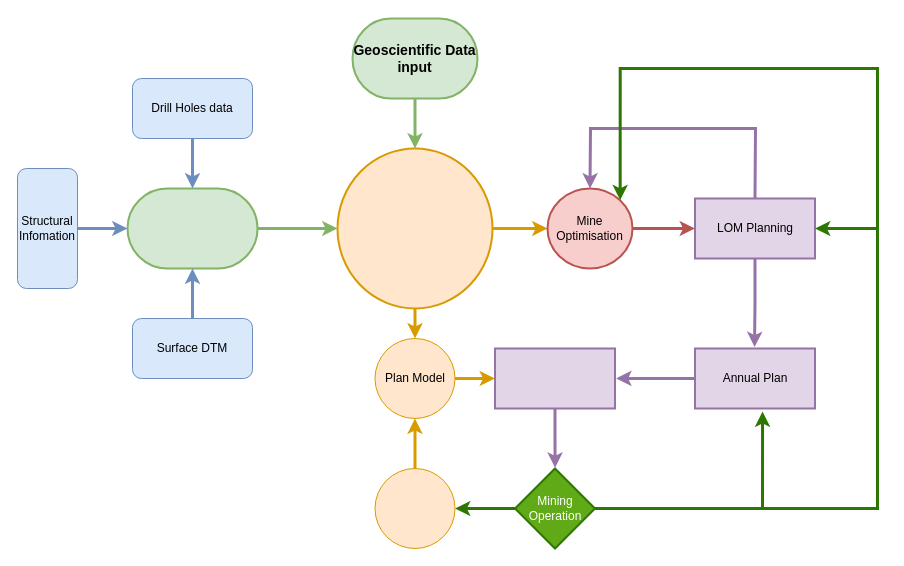
This 904x566 diagram has some shape labels left out. The shapes that lost their labels are listed below. From the top down, each one's box as (x1, y1, x2, y2) in pixels, then its label:
(126, 187, 258, 269): Geological Model
(336, 147, 493, 309): Mineral Resource Estimation
(494, 347, 616, 409): Monthly and Weekly Plan
(374, 468, 455, 548): Grade Control Model
